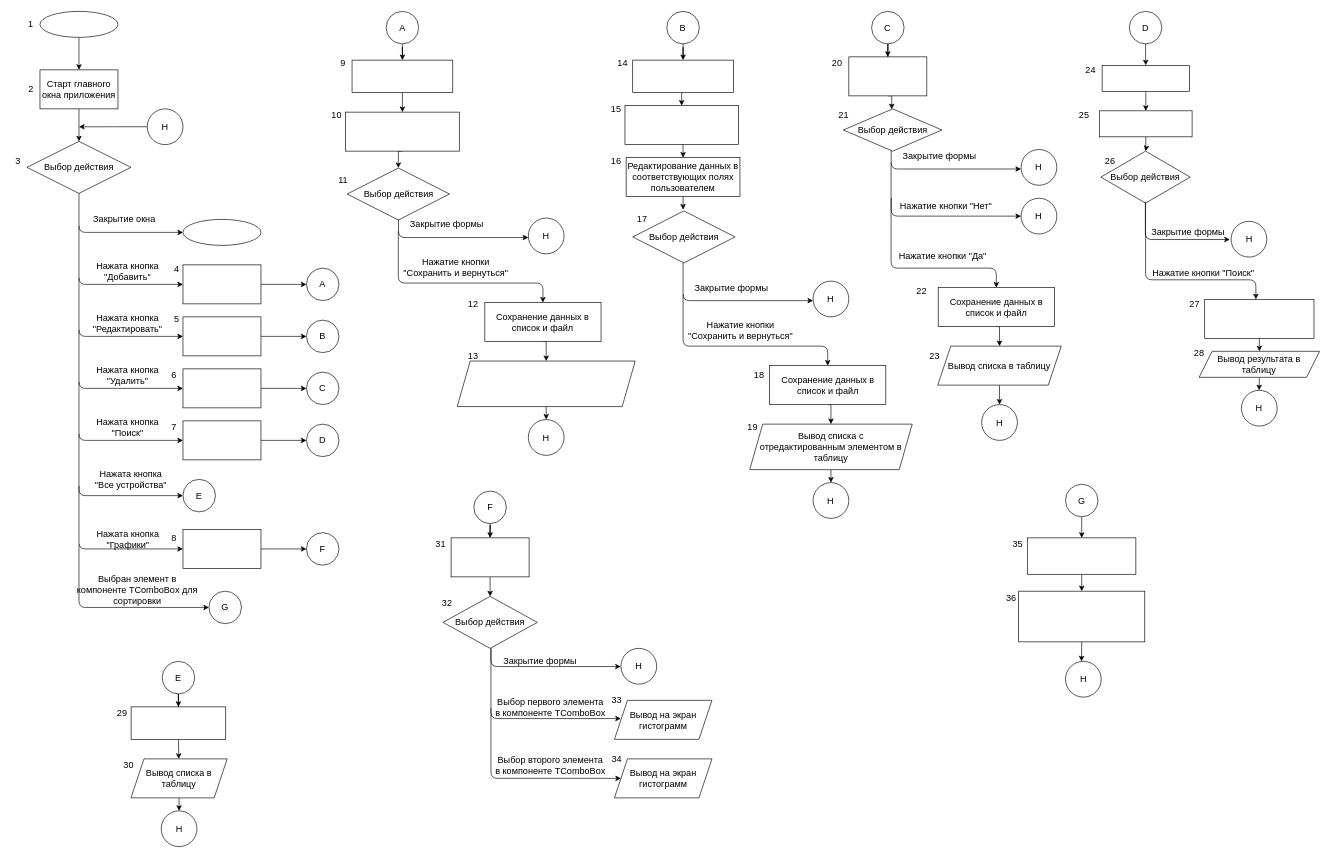
Image size: 1331x858. Some labels were removed from this diagram. The shapes that lost their labels are listed below. From the top down, each one's centre as x and y in pixels, then its label:
[78,24]: Начало
[402,76]: Открытие формы "Добавить"
[682,76]: Открытие формы "Редактировать"
[887,76]: Открытие формы "Удалить"
[1145,78]: Открытие формы "Поиск"
[402,131]: Ввод данных в соответствующие поля пользователем
[681,125]: Заполнение полей старыми данными
[1145,123]: Заполнение полей пользователем
[221,232]: Конец
[221,284]: Запуск формы "Добавить"
[221,336]: Запуск формы "Редактировать"
[1259,318]: Заполнение массива найденными данными
[221,388]: Запуск формы "Удалить"
[546,383]: Вывод списка с добавленным элементом в таблицу
[221,440]: Запуск формы "Поиск"
[221,548]: Запуск формы "Графики"
[489,557]: Заполнение вспомогательных массивов
[1081,555]: Выбор пользователем элемента из компонента TComboBox
[1081,616]: Сортировка данных в таблице в соответствии с полученным методом сортировки
[178,722]: Заполнение списка
